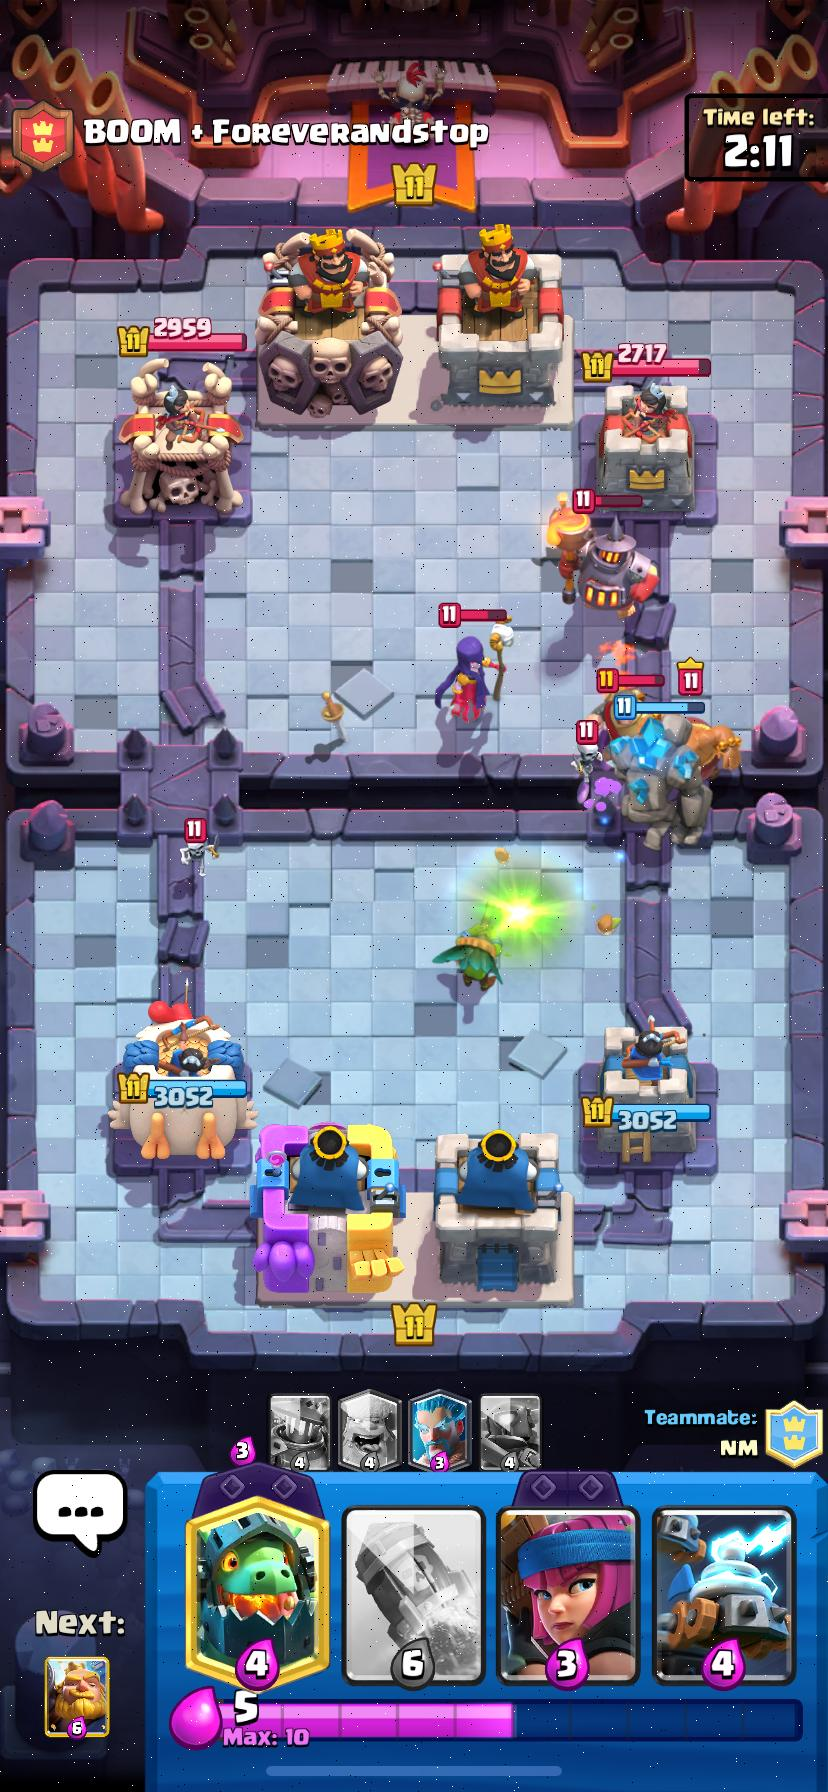EFurnace: (560, 519, 658, 615)
EKingTower: (256, 229, 401, 417), (435, 226, 567, 405)
EKnight: (586, 690, 646, 741)
ELarry: (181, 814, 213, 875), (574, 715, 599, 786)
EMonk: (685, 717, 743, 776)
EWitch: (446, 635, 488, 728)
EnemyPrincessTower: (118, 360, 242, 515), (594, 389, 692, 507)
ODartGoblin: (444, 920, 500, 992)
OGolem: (606, 713, 717, 848)
OwnKingTower: (253, 1123, 403, 1302), (433, 1127, 574, 1304)
OwnPrincessTower: (111, 1017, 256, 1159), (580, 1024, 710, 1165)
